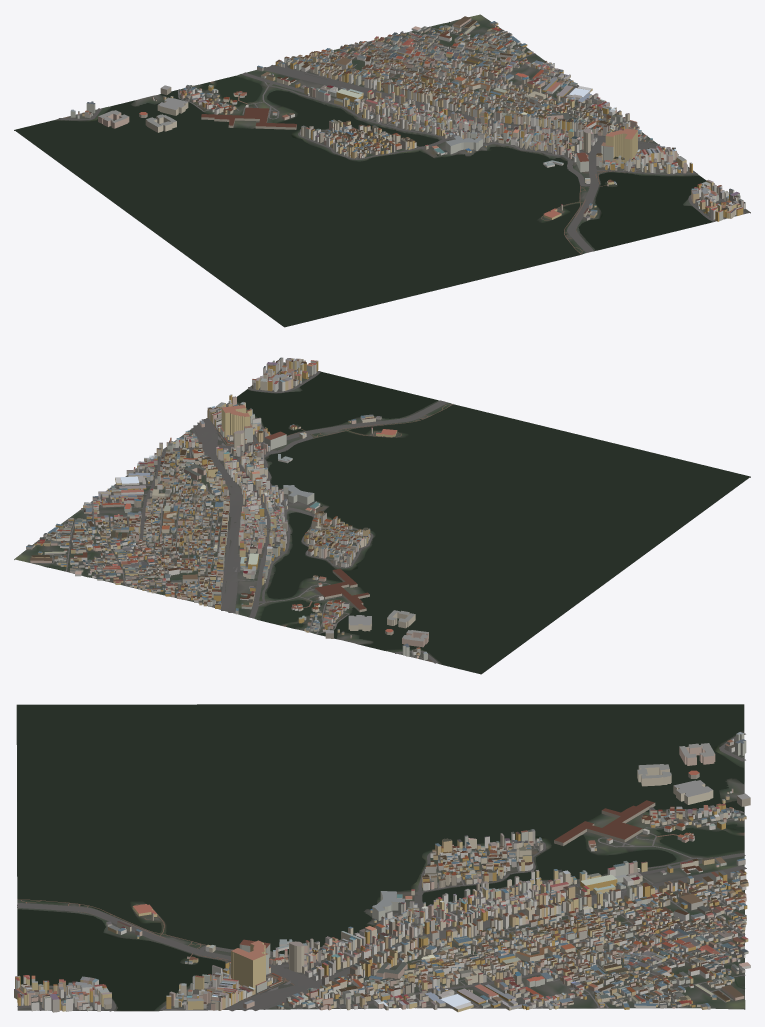
The picture shows the model from 3 angles, top to bottom: view 1: azimuth 30°, elevation 25°; view 2: azimuth 150°, elevation 25°; view 3: azimuth 270°, elevation 25°; orthographic projection. The views are drawn at different scales.
Visible parts, largest first — view 1: water, buildings, ground, roads; view 2: water, buildings, ground, roads; view 3: water, buildings, ground, roads.
Boxes of the visible parts, x1,y1,x2,y2 form: water: (15, 22, 712, 326); buildings: (70, 16, 745, 221); ground: (14, 14, 750, 327); roads: (58, 20, 746, 254); water: (45, 372, 749, 673); buildings: (26, 357, 428, 659); ground: (14, 362, 750, 674); roads: (31, 365, 452, 663); water: (17, 704, 744, 1010); buildings: (14, 732, 750, 1012); ground: (16, 704, 745, 1011); roads: (17, 733, 746, 1011).
Size of the model in its own units: 1416 by 76.47 by 1420.
